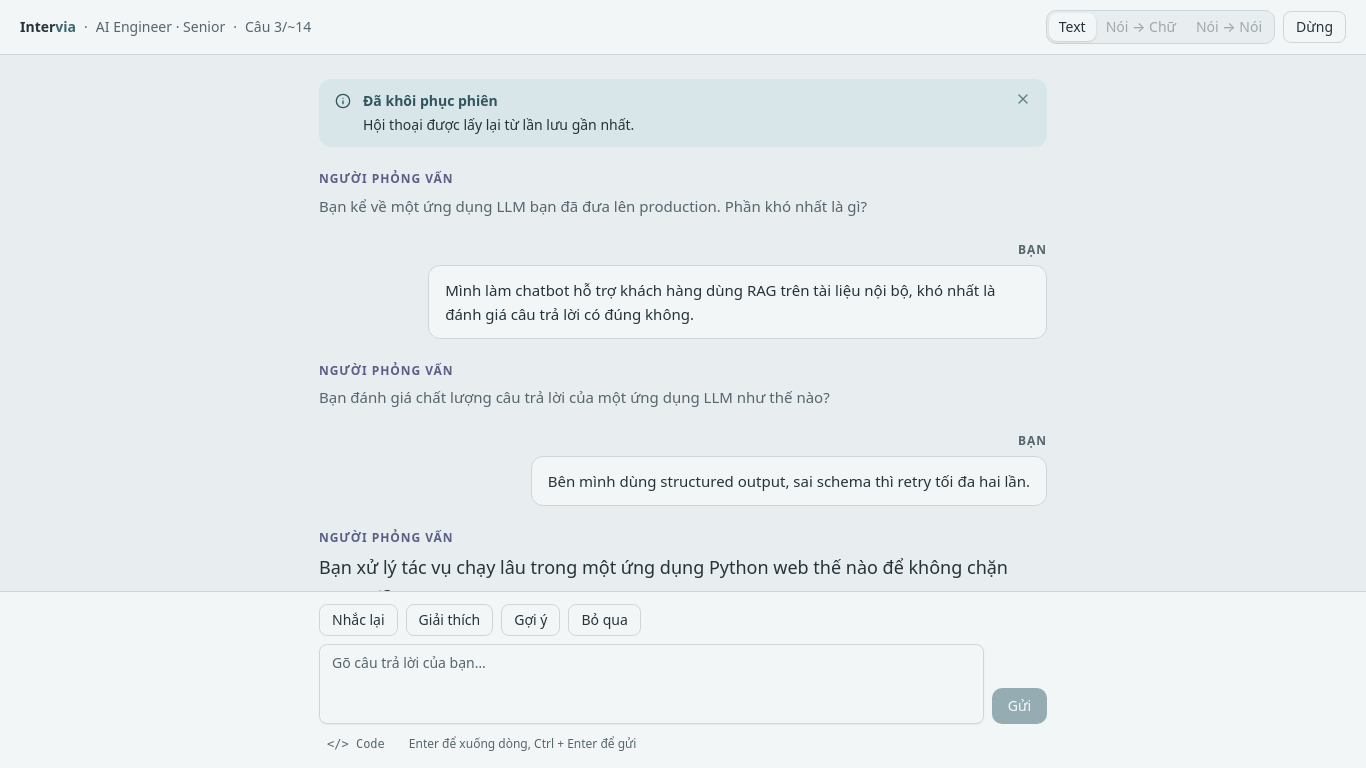
Test: Progress, stop, end (UI-6.4) › asks before stopping; "Tiếp tục" keeps the session and what was typed
Check: the text "RAG trên tài liệu nội bộ" is shown, box x1=445 y1=280 x2=999 y2=324
Type "chưa gửi" into the text box labelled "câu trả lời" at coordinates (651, 684), box x1=319 y1=644 x2=984 y2=724
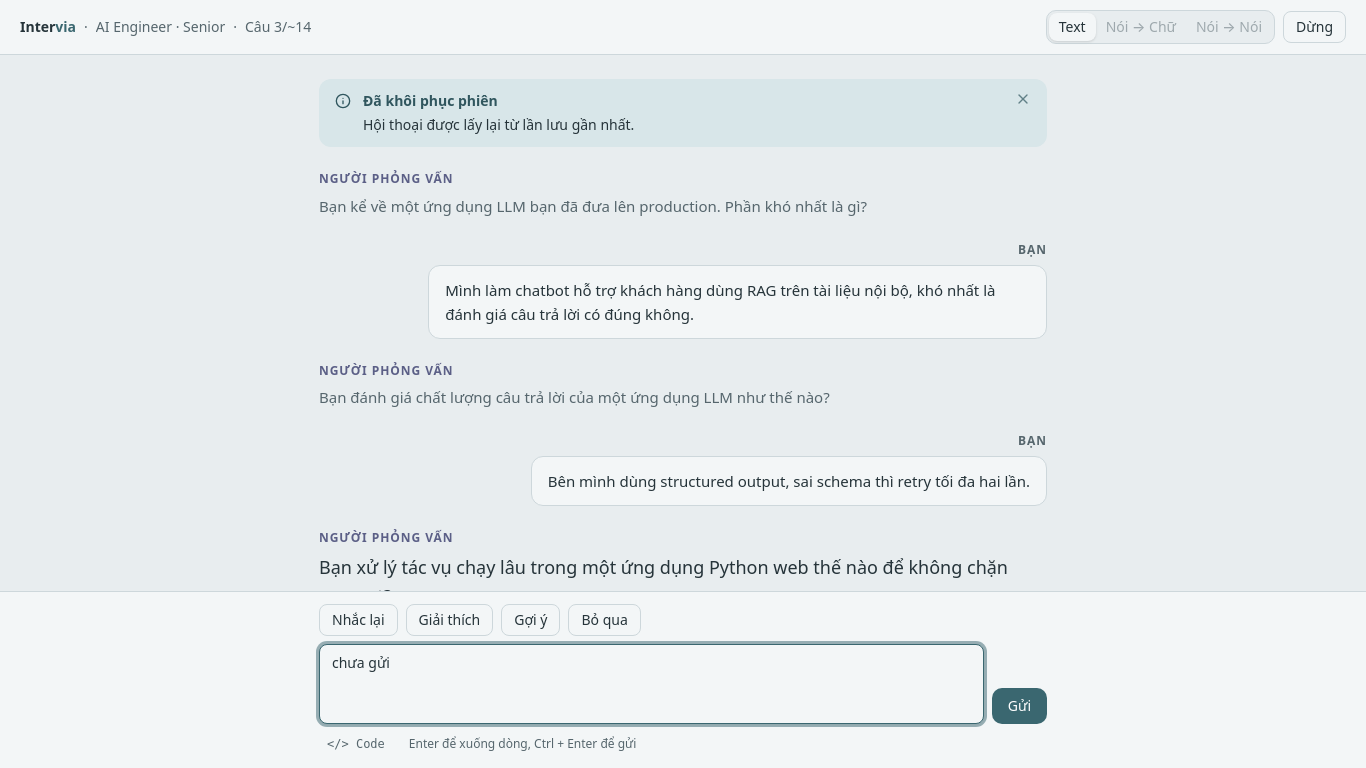
Click the button "Dừng" at coordinates (1315, 27), box x1=1283 y1=11 x2=1346 y2=43
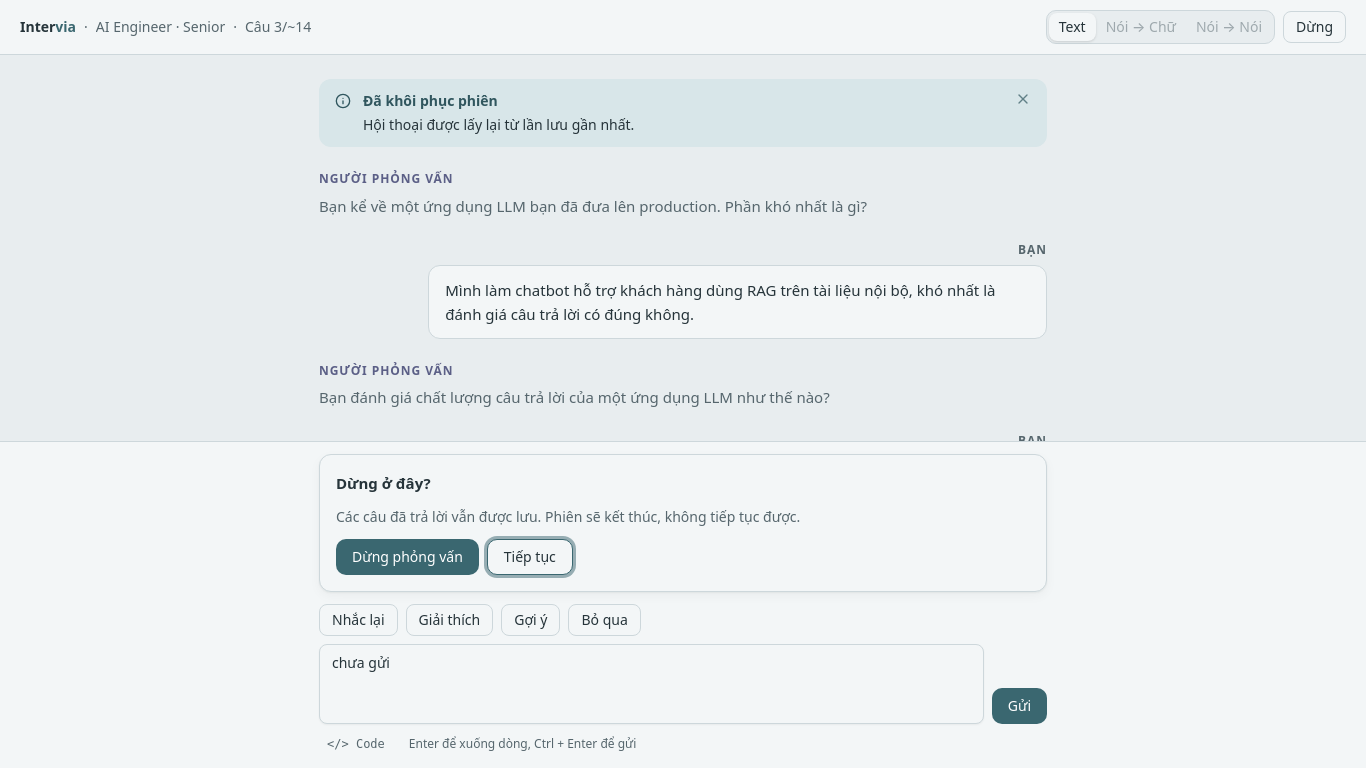
Check: the dialog "Dừng ở đây?" shows "Các câu đã trả lời vẫn được lưu.", box x1=336 y1=507 x2=800 y2=526
Click the button "Tiếp tục" at coordinates (530, 557), box x1=487 y1=539 x2=573 y2=575
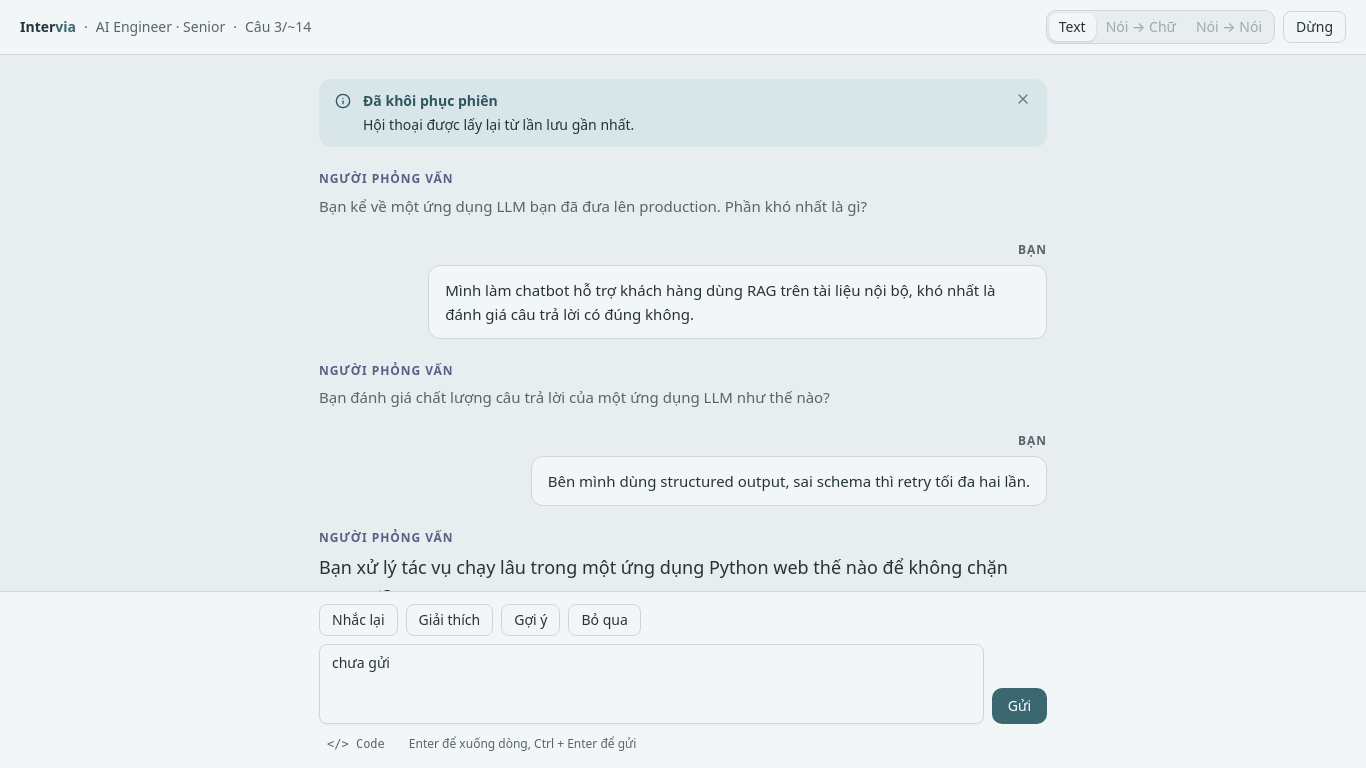
Check: the dialog is gone
